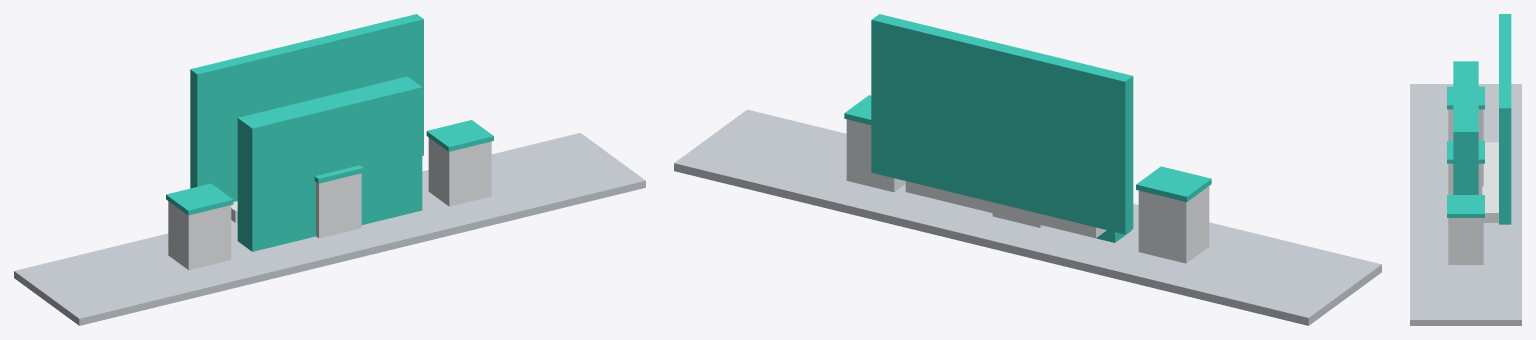
3 views of the same model, side by side, from view 1: azimuth 30°, elevation 25°; view 2: azimuth 150°, elevation 25°; view 3: azimuth 270°, elevation 25° (orthographic). The views are drawn at different scales.
Parts seen in each view (by area): view 1: Exhibition Booth Concept; view 2: Exhibition Booth Concept; view 3: Exhibition Booth Concept.
Boxes of the visible parts, bbox=[...] form: Exhibition Booth Concept: bbox=[14, 14, 645, 325]; Exhibition Booth Concept: bbox=[674, 14, 1381, 325]; Exhibition Booth Concept: bbox=[1410, 14, 1521, 325].
Size of the model in its own units: 10 by 2.9 by 2.
